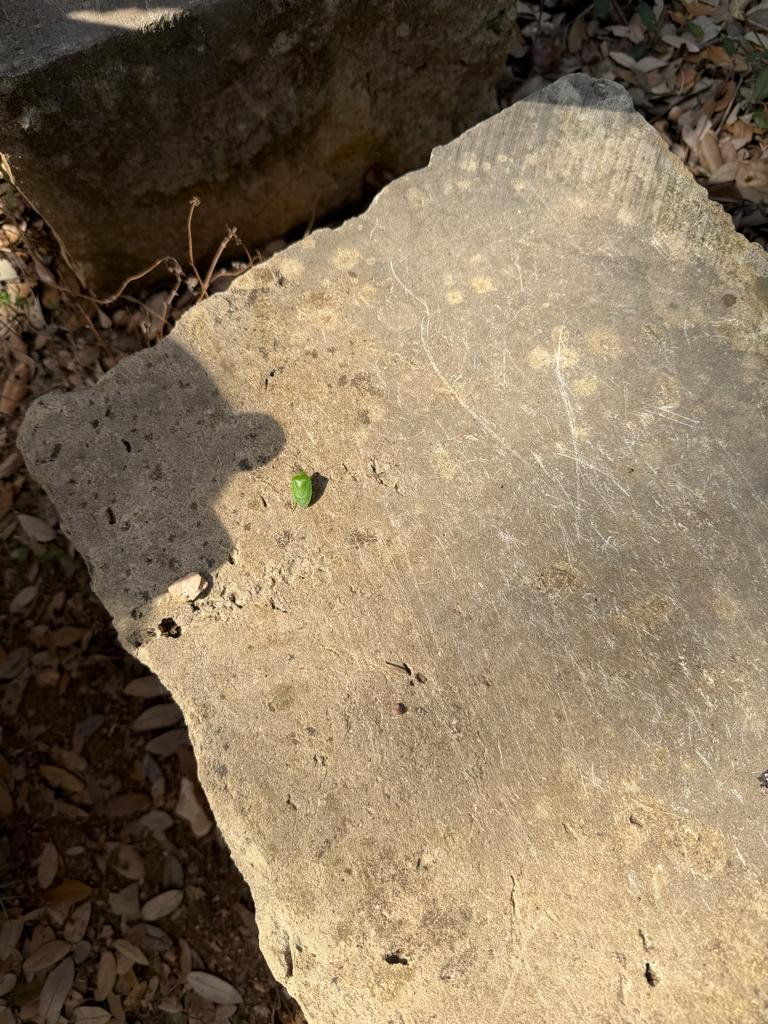stink_bugs: (281, 462, 323, 519)
